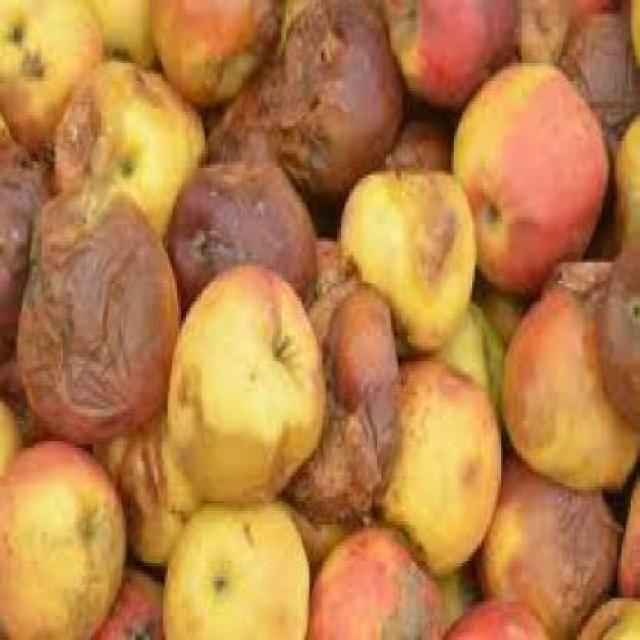BIODEGRADABLE: (0, 0, 638, 637), (14, 175, 180, 419), (170, 262, 324, 496), (453, 60, 610, 280), (498, 268, 633, 480), (53, 55, 205, 231), (272, 0, 408, 189), (0, 437, 123, 637), (335, 175, 473, 347), (300, 272, 391, 525), (162, 161, 315, 304), (486, 451, 617, 615), (391, 353, 495, 556), (163, 500, 308, 637), (307, 511, 442, 637), (86, 423, 200, 560), (0, 0, 103, 151), (378, 0, 519, 95), (398, 301, 500, 430), (144, 0, 279, 88), (0, 165, 49, 388), (563, 18, 634, 122), (600, 256, 638, 410), (93, 570, 175, 636), (444, 594, 568, 637), (614, 108, 638, 304), (474, 272, 531, 354), (388, 99, 454, 168), (93, 0, 156, 66), (204, 112, 276, 168), (516, 0, 573, 63), (619, 458, 638, 619), (570, 594, 638, 637), (0, 122, 49, 168), (619, 0, 638, 66), (315, 241, 333, 294)
